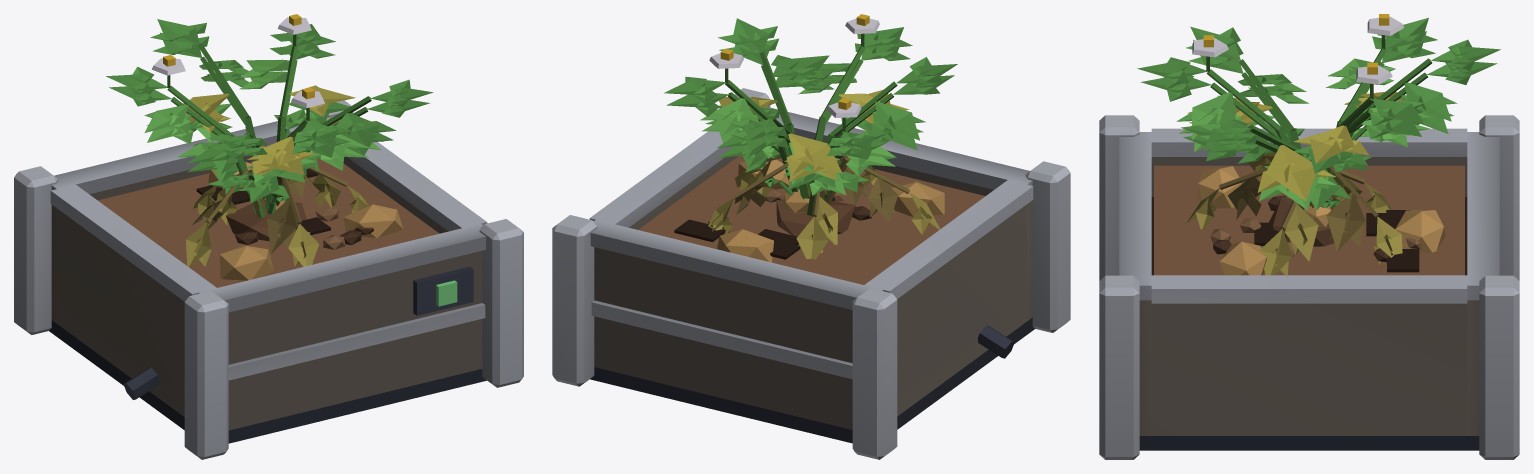
File: farm.glb
3 renders of one model, left to right at view 1: azimuth 30°, elevation 25°; view 2: azimuth 150°, elevation 25°; view 3: azimuth 270°, elevation 25°, orthographic. The views are drawn at different scales.
Visible parts, largest first — view 1: body_planter, body_potato_4, body_soil_dry, body_potato_3, body_potato_dry, body_potato_2, body_soil_wet, body_potato_0; view 2: body_planter, body_potato_4, body_soil_dry, body_potato_3, body_potato_dry, body_potato_0, body_soil_wet, body_potato_2; view 3: body_planter, body_potato_4, body_soil_dry, body_potato_3, body_potato_dry, body_soil_wet, body_potato_2, body_potato_0.
Part boxes in pixels (bbox=[...]): body_planter: bbox=[14, 100, 523, 459]; body_potato_4: bbox=[106, 14, 433, 280]; body_soil_dry: bbox=[98, 158, 439, 287]; body_potato_3: bbox=[109, 32, 430, 205]; body_potato_dry: bbox=[186, 166, 368, 267]; body_potato_2: bbox=[177, 109, 321, 214]; body_soil_wet: bbox=[196, 169, 373, 245]; body_potato_0: bbox=[226, 199, 306, 241]; body_planter: bbox=[552, 88, 1070, 459]; body_potato_4: bbox=[664, 14, 957, 262]; body_soil_dry: bbox=[638, 155, 985, 284]; body_potato_3: bbox=[666, 38, 954, 215]; body_potato_dry: bbox=[708, 153, 940, 259]; body_potato_0: bbox=[776, 189, 855, 236]; body_soil_wet: bbox=[674, 196, 871, 259]; body_potato_2: bbox=[741, 111, 894, 196]; body_planter: bbox=[1099, 115, 1519, 459]; body_potato_4: bbox=[1137, 14, 1500, 275]; body_soil_dry: bbox=[1154, 165, 1464, 275]; body_potato_3: bbox=[1140, 31, 1497, 209]; body_potato_dry: bbox=[1187, 143, 1402, 275]; body_soil_wet: bbox=[1213, 195, 1419, 272]; body_potato_2: bbox=[1237, 125, 1386, 209]; body_potato_0: bbox=[1269, 197, 1336, 246].
Bounding box in the file's own units: 1.06 × 0.9235 × 1.04.
